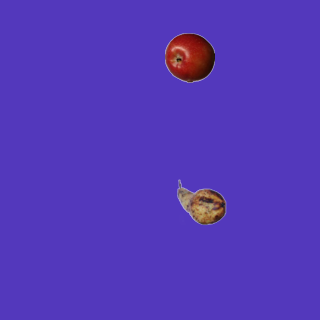Apple Braeburn: (164, 32, 214, 82)
Pear Abate: (176, 177, 226, 227)
